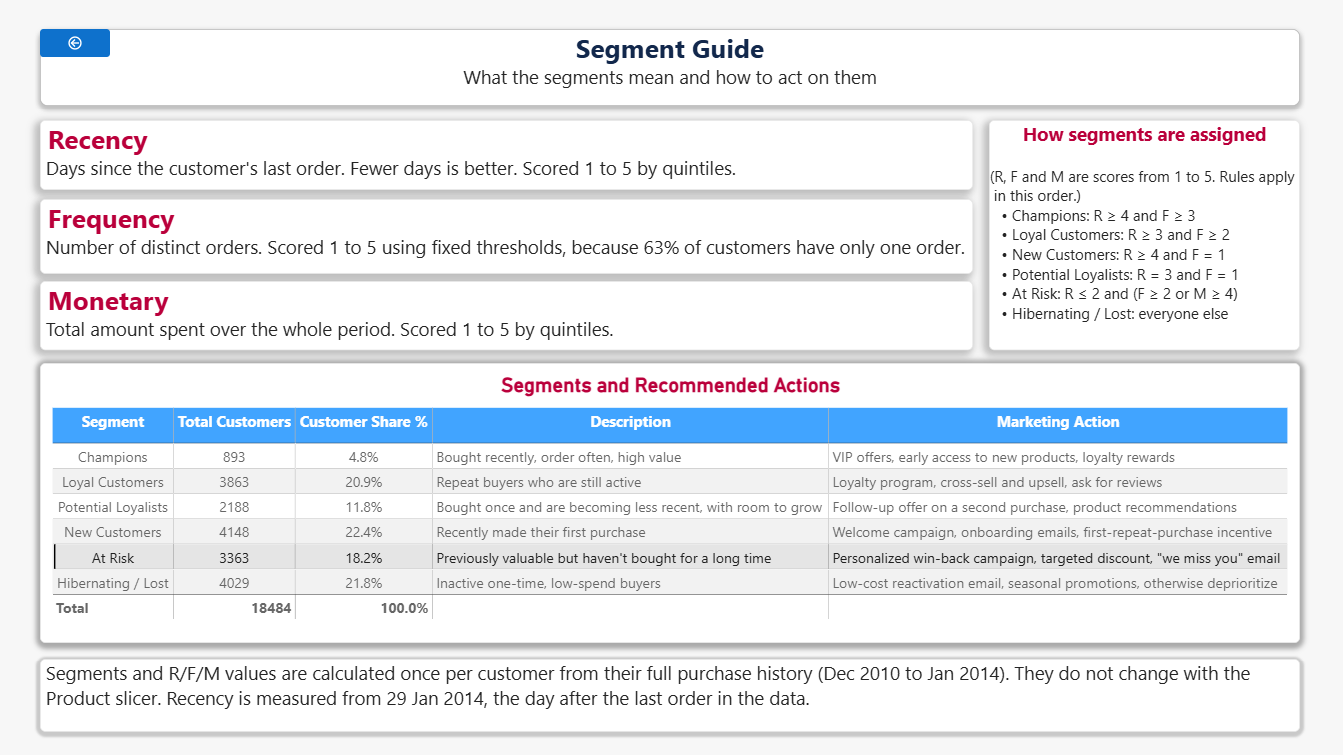

The page's visual inventory and layout, read from the dashboard file:
{"tool":"powerbi","page":{"name":"Segment Guide","canvas":[1920,1080],"ordinal":3},"visuals":[{"type":"textbox","box":[58.3,43.3,1800,110],"z":0},{"type":"textbox","box":[58.6,172.9,1332.9,100],"z":1000},{"type":"textbox","box":[58.6,285.7,1332.9,107.1],"z":2000},{"type":"textbox","box":[58.6,402.9,1332.9,98.6],"z":3000},{"type":"tableEx","title":"Segments and Recommended Actions","fields":{"Values":["Segment Guide.Segment","_Measures.Total Customers","_Measures.Customer Share %","Segment Guide.Description","Segment Guide.Marketing Action"]},"box":[58.6,520,1800,400],"z":4000},{"type":"textbox","box":[58.6,942.9,1800,104.3],"z":5000},{"type":"textbox","box":[1414.3,172.9,444.3,328.6],"z":6000},{"type":"actionButton","box":[58.6,42.9,100,40],"z":6001}]}

Visuals, with their boxes in screenshot pixels (x1, y1, x2, y2), scaled from the page's 1920x1080 canvas onto the 1343x755 screenshot:
textbox: (left=41, top=30, right=1300, bottom=107)
textbox: (left=41, top=121, right=973, bottom=191)
textbox: (left=41, top=200, right=973, bottom=275)
textbox: (left=41, top=282, right=973, bottom=351)
"Segments and Recommended Actions" tableEx: (left=41, top=364, right=1300, bottom=643)
textbox: (left=41, top=659, right=1300, bottom=732)
textbox: (left=989, top=121, right=1300, bottom=351)
actionButton: (left=41, top=30, right=111, bottom=58)
